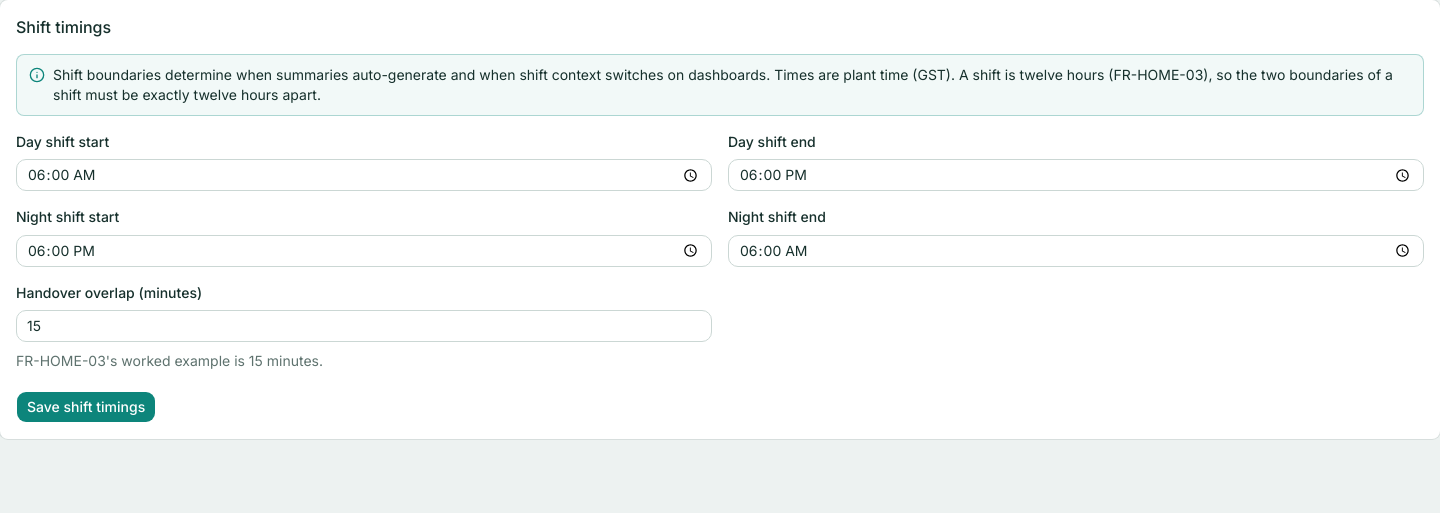
ShiftTimingsForm › refuses to submit a day shift that is not twelve hours, and says why
Replace the text in the time field labelled "Day shift end" with "14:00" at (1076, 175), box [728,159,1424,191]
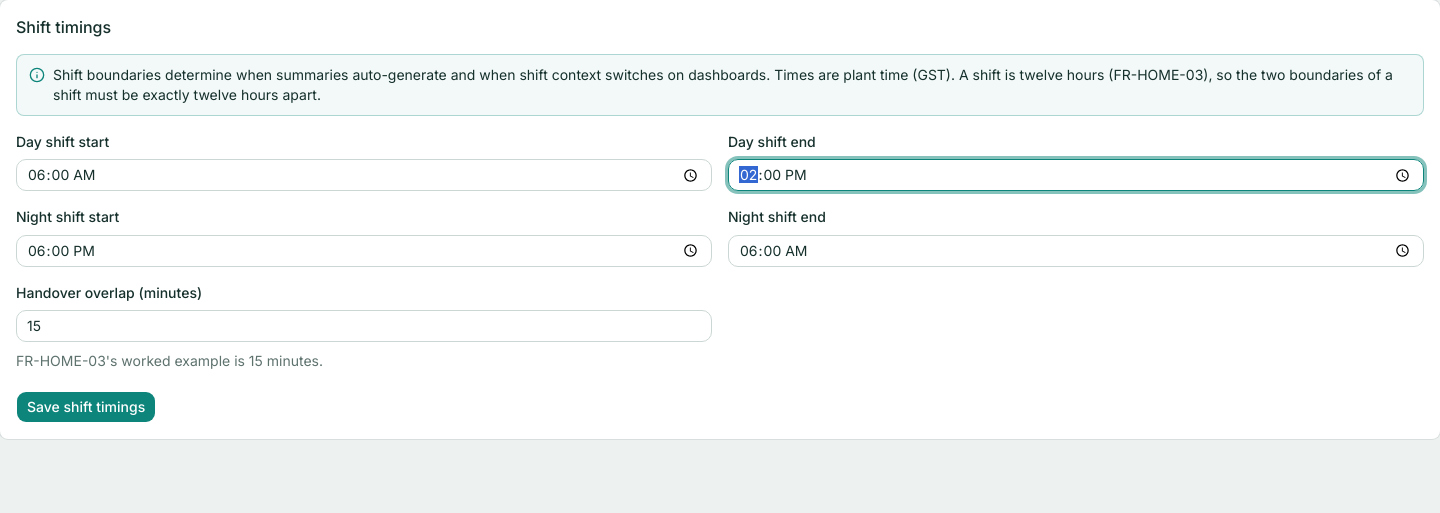
Click the button "Save shift timings" at (86, 407), box [16,391,156,423]
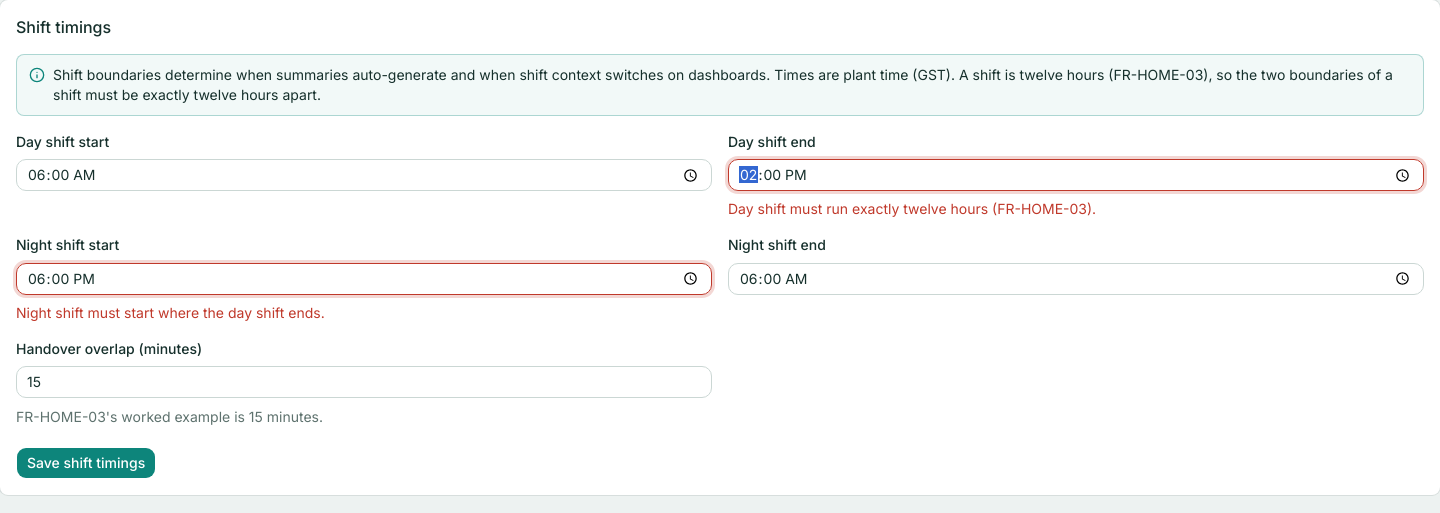
expect the text "Day shift must run exactly twelve hours (FR-HOME-03)." is shown: met, box [728,200,1096,217]
